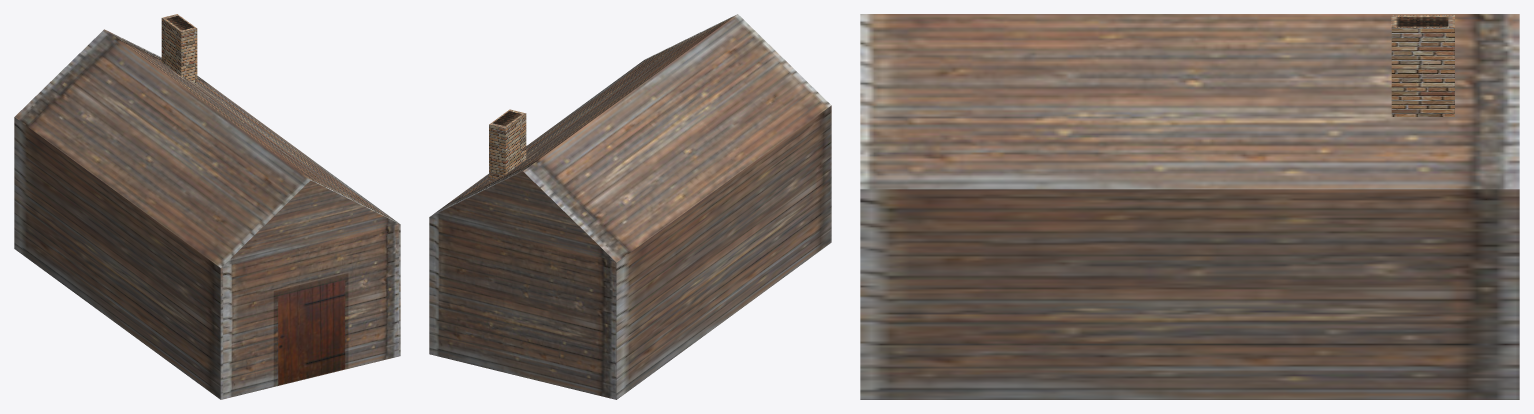
The model's file is LogCabinLong.FBX.
3 views of the same model, side by side, from view 1: azimuth 30°, elevation 25°; view 2: azimuth 150°, elevation 25°; view 3: azimuth 270°, elevation 25° (orthographic). The views are drawn at different scales.
Visible parts, largest first — view 1: Cabin; view 2: Cabin; view 3: Cabin.
Boxes of the visible parts, x1,y1,x2,y2 form: Cabin: [14, 14, 400, 399]; Cabin: [429, 14, 831, 399]; Cabin: [860, 14, 1519, 399].
Size of the model in its own units: 8 by 9.14 by 15.91.
